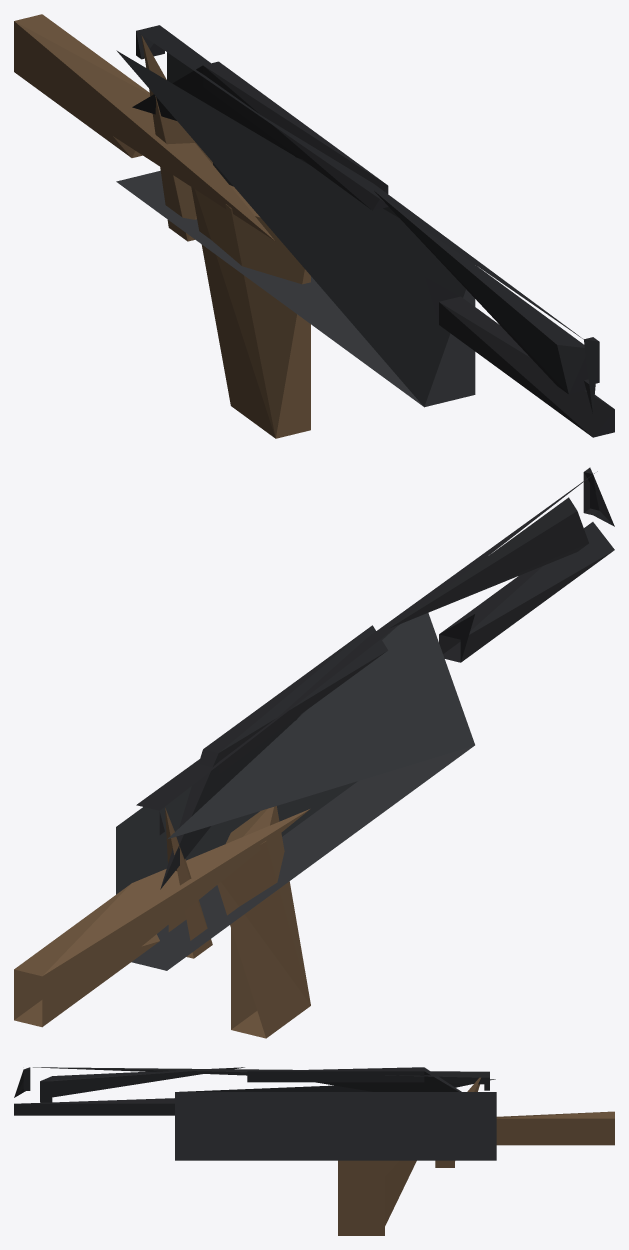
File: galil.obj
The picture shows the model from 3 angles, top to bottom: view 1: azimuth 30°, elevation 25°; view 2: azimuth 150°, elevation 25°; view 3: azimuth 270°, elevation 25°; orthographic projection. The views are drawn at different scales.
Bounding box in the file's own units: 0.065 × 0.38 × 1.27.
